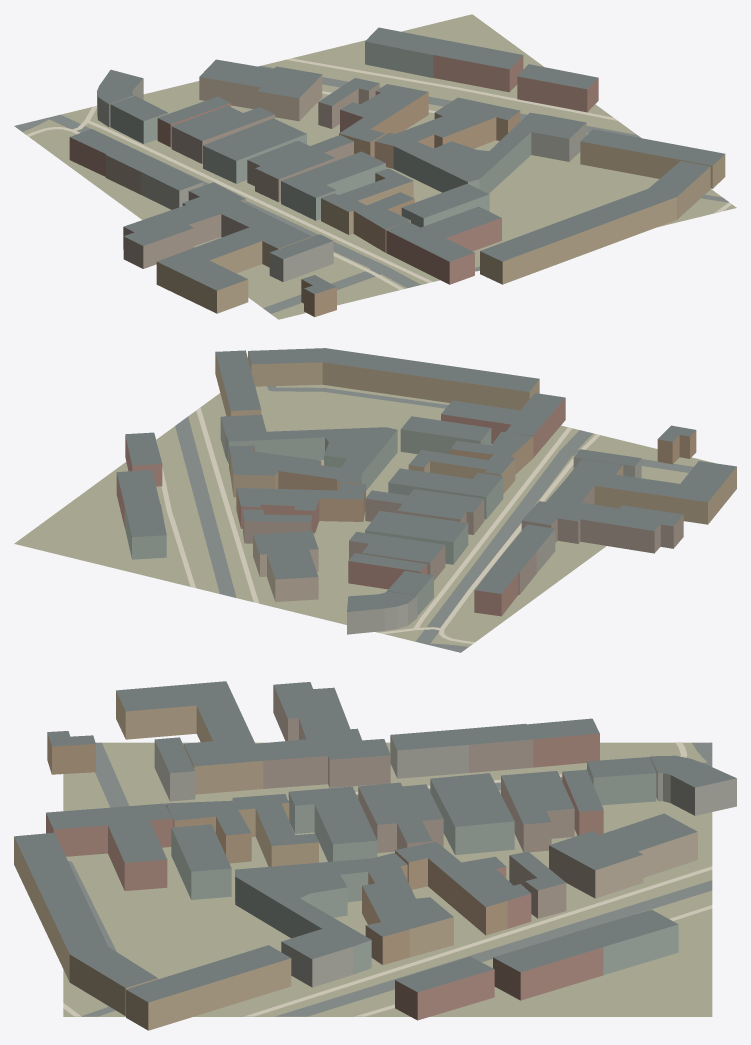
File: sector-2_-6.glb
3 renders of one model, top to bottom at view 1: azimuth 30°, elevation 25°; view 2: azimuth 150°, elevation 25°; view 3: azimuth 270°, elevation 25°, orthographic. The views are drawn at different scales.
Parts seen in each view (by area): view 1: 2:-6-facade, 2:-6-roof, 2:-6-ground, 2:-6-road, 2:-6-paving; view 2: 2:-6-roof, 2:-6-facade, 2:-6-ground, 2:-6-road, 2:-6-paving; view 3: 2:-6-facade, 2:-6-roof, 2:-6-ground, 2:-6-road, 2:-6-paving.
Part boxes in pixels (x1=…): 2:-6-facade: x1=69, y1=41, x2=725, y2=317; 2:-6-roof: x1=70, y1=27, x2=724, y2=294; 2:-6-ground: x1=22, y1=14, x2=736, y2=319; 2:-6-road: x1=14, y1=65, x2=728, y2=313; 2:-6-paving: x1=27, y1=58, x2=731, y2=289; 2:-6-roof: x1=116, y1=348, x2=736, y2=612; 2:-6-facade: x1=116, y1=351, x2=736, y2=634; 2:-6-ground: x1=14, y1=384, x2=714, y2=646; 2:-6-road: x1=175, y1=386, x2=693, y2=652; 2:-6-paving: x1=156, y1=407, x2=600, y2=643; 2:-6-facade: x1=14, y1=685, x2=736, y2=1030; 2:-6-roof: x1=14, y1=681, x2=736, y2=1002; 2:-6-ground: x1=63, y1=742, x2=712, y2=1016; 2:-6-road: x1=68, y1=742, x2=712, y2=1016; 2:-6-paving: x1=63, y1=742, x2=712, y2=1016.
Size of the model in its own units: 234 by 9.6 by 223.
